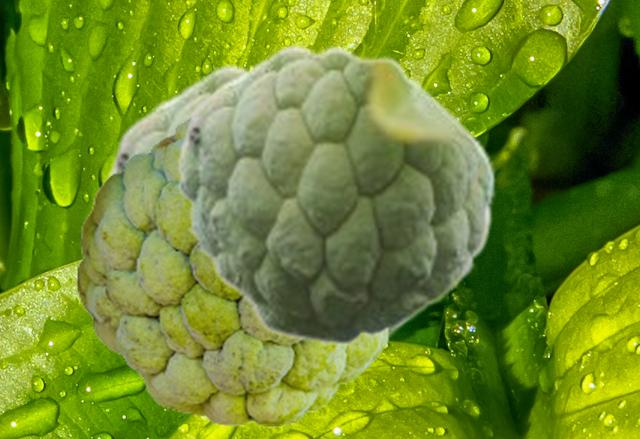atis: (76, 112, 392, 426), (176, 44, 497, 344), (103, 64, 418, 344)
